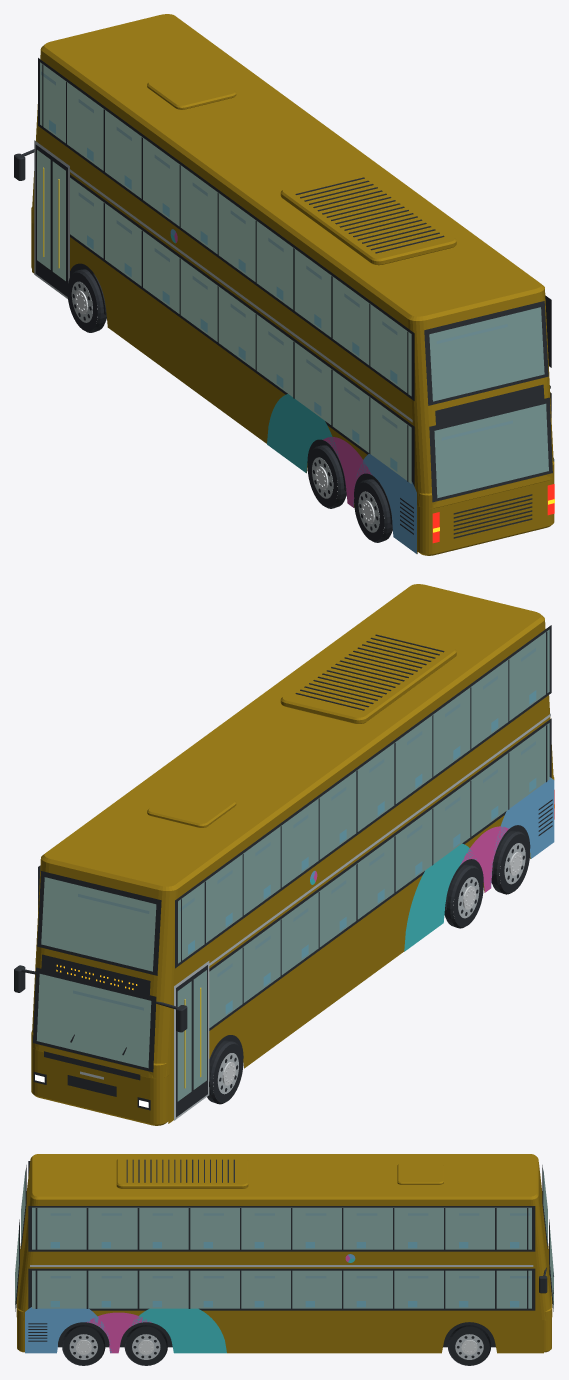
File: sunlight-bus-hzmb.glb
The picture shows the model from 3 angles, top to bottom: view 1: azimuth 30°, elevation 25°; view 2: azimuth 150°, elevation 25°; view 3: azimuth 270°, elevation 25°; orthographic projection. The views are drawn at different scales.
Visible parts, largest first — view 1: HZMB Gold Double Decker; view 2: HZMB Gold Double Decker; view 3: HZMB Gold Double Decker.
Boxes of the visible parts, left/top/right/bottom form: HZMB Gold Double Decker: left=14, top=14, right=554, bottom=555; HZMB Gold Double Decker: left=14, top=584, right=554, bottom=1125; HZMB Gold Double Decker: left=15, top=1154, right=553, bottom=1365.
Size of the model in its own units: 3.09 by 4.46 by 12.72.
